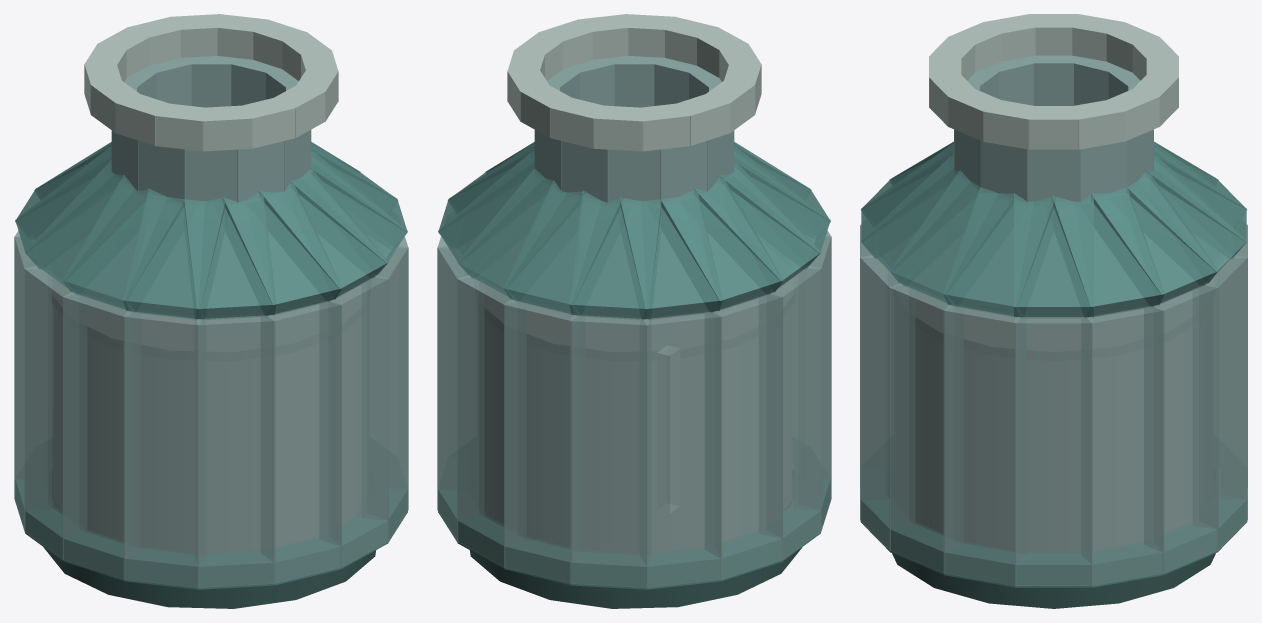
File: CMU3DBottleFill4StudyCloud.glb
3 renders of one model, left to right at view 1: azimuth 30°, elevation 25°; view 2: azimuth 150°, elevation 25°; view 3: azimuth 270°, elevation 25°, orthographic.
Parts seen in each view (by area): view 1: static liquid volume level 4, hollow bottle wall 11, hollow bottle wall 12, hollow bottle wall 13, hollow bottle wall 10, hollow bottle wall 14, hollow bottle wall 09, hollow bottle wall 15, inward glass shoulder 11, inward glass shoulder 13, inward glass shoulder 12, hollow bottle wall 08 (+46 smaller); view 2: static liquid volume level 4, hollow bottle wall 07, hollow bottle wall 06, hollow bottle wall 05, hollow bottle wall 08, hollow bottle wall 04, hollow bottle wall 09, hollow bottle wall 03, inward glass shoulder 07, inward glass shoulder 05, inward glass shoulder 06, hollow bottle wall 10 (+47 smaller); view 3: static liquid volume level 4, hollow bottle wall 02, hollow bottle wall 16, hollow bottle wall 01, hollow bottle wall 03, hollow bottle wall 15, hollow bottle wall 04, hollow bottle wall 14, inward glass shoulder 02, inward glass shoulder 16, inward glass shoulder 01, inward glass shoulder 03 (+44 smaller).
Boxes of the visible parts, left/top/right/bottom form: static liquid volume level 4: left=54, top=307, right=360, bottom=552; hollow bottle wall 11: left=123, top=310, right=205, bottom=587; hollow bottle wall 12: left=194, top=314, right=275, bottom=587; hollow bottle wall 13: left=261, top=299, right=341, bottom=583; hollow bottle wall 10: left=62, top=292, right=140, bottom=579; hollow bottle wall 14: left=319, top=275, right=388, bottom=567; hollow bottle wall 09: left=24, top=265, right=86, bottom=559; hollow bottle wall 15: left=362, top=246, right=408, bottom=541; inward glass shoulder 11: left=123, top=188, right=226, bottom=320; inward glass shoulder 13: left=222, top=180, right=342, bottom=316; inward glass shoulder 12: left=184, top=190, right=276, bottom=320; hollow bottle wall 08: left=14, top=236, right=51, bottom=531; static liquid volume level 4: left=485, top=307, right=791, bottom=552; hollow bottle wall 07: left=640, top=310, right=722, bottom=587; hollow bottle wall 06: left=570, top=314, right=651, bottom=587; hollow bottle wall 05: left=504, top=299, right=584, bottom=583; hollow bottle wall 08: left=705, top=292, right=783, bottom=579; hollow bottle wall 04: left=457, top=275, right=526, bottom=567; hollow bottle wall 09: left=759, top=265, right=821, bottom=559; hollow bottle wall 03: left=437, top=246, right=483, bottom=541; inward glass shoulder 07: left=619, top=188, right=722, bottom=320; inward glass shoulder 05: left=503, top=180, right=623, bottom=316; inward glass shoulder 06: left=569, top=190, right=661, bottom=320; hollow bottle wall 10: left=794, top=236, right=831, bottom=531; static liquid volume level 4: left=916, top=327, right=1191, bottom=551; hollow bottle wall 02: left=1081, top=305, right=1164, bottom=585; hollow bottle wall 16: left=943, top=305, right=1026, bottom=585; hollow bottle wall 01: left=1015, top=315, right=1092, bottom=585; hollow bottle wall 03: left=1144, top=283, right=1218, bottom=573; hollow bottle wall 15: left=889, top=283, right=963, bottom=573; hollow bottle wall 04: left=1193, top=255, right=1247, bottom=550; hollow bottle wall 14: left=860, top=255, right=914, bottom=550; inward glass shoulder 02: left=1052, top=187, right=1164, bottom=318; inward glass shoulder 16: left=943, top=187, right=1055, bottom=318; inward glass shoulder 01: left=1014, top=193, right=1093, bottom=317; inward glass shoulder 03: left=1091, top=170, right=1218, bottom=307.
Bounding box in the file's own units: 0.3384 × 0.453 × 0.3384.
